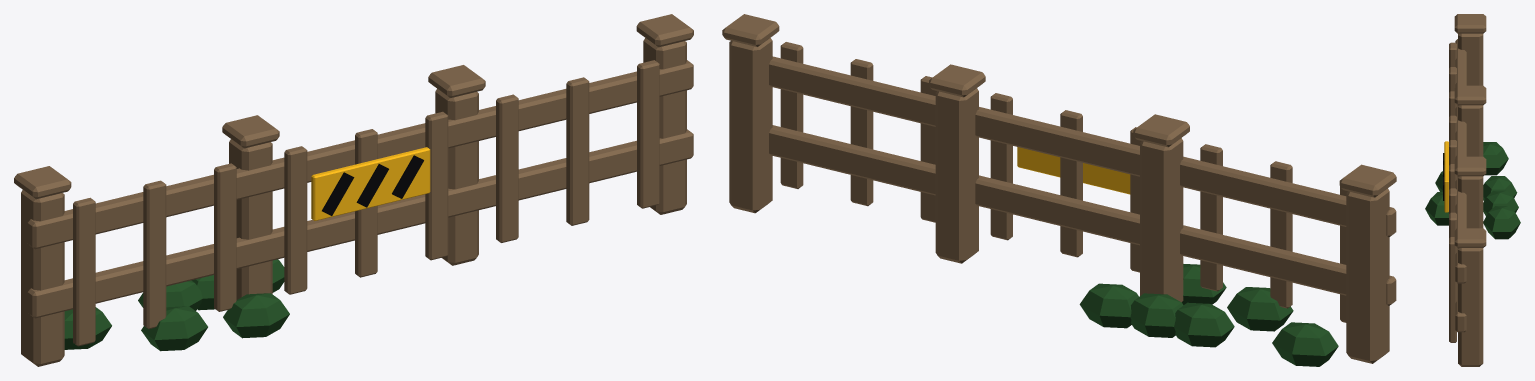
Rendered from MD_Zoo_Fence.fbx.
3 renders of one model, left to right at view 1: azimuth 30°, elevation 25°; view 2: azimuth 150°, elevation 25°; view 3: azimuth 270°, elevation 25°, orthographic. The views are drawn at different scales.
Parts seen in each view (by area): view 1: MD_Zoo_Fence; view 2: MD_Zoo_Fence; view 3: MD_Zoo_Fence.
Part boxes in pixels (left/top/right/bottom): MD_Zoo_Fence: left=14, top=14, right=693, bottom=366; MD_Zoo_Fence: left=722, top=14, right=1396, bottom=366; MD_Zoo_Fence: left=1425, top=14, right=1520, bottom=366.
Bounding box in the file's own units: 340 × 95 × 60.45.
